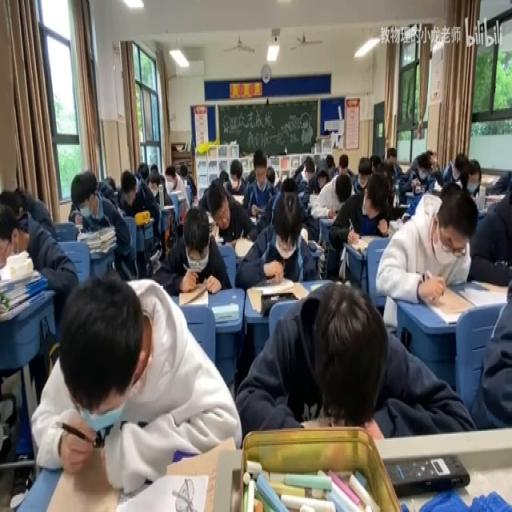calculator: (43, 445, 123, 509), (115, 471, 209, 512), (247, 280, 308, 313), (76, 224, 115, 254), (178, 286, 207, 306), (212, 302, 238, 322), (351, 235, 379, 253), (233, 236, 254, 258), (483, 193, 504, 209), (392, 202, 408, 219), (148, 248, 160, 270), (307, 239, 325, 253), (388, 218, 403, 232), (230, 193, 244, 205), (210, 222, 219, 240), (319, 214, 335, 224), (309, 282, 325, 290), (149, 180, 158, 194), (308, 194, 318, 206), (180, 204, 186, 224), (433, 179, 442, 192), (300, 225, 307, 240), (405, 189, 415, 199), (248, 216, 258, 225), (160, 204, 174, 210), (216, 235, 224, 243)
paper: (32, 269, 237, 492), (234, 280, 466, 440), (375, 182, 477, 327), (0, 192, 77, 330), (325, 170, 393, 278), (469, 269, 511, 428), (467, 170, 512, 284), (116, 166, 160, 266), (197, 178, 256, 249), (260, 172, 314, 242), (67, 175, 119, 225), (398, 149, 440, 202), (438, 152, 477, 196), (302, 155, 332, 196), (0, 188, 27, 222), (222, 156, 244, 194), (382, 145, 404, 181), (177, 162, 195, 202), (348, 155, 367, 192), (334, 173, 350, 202), (290, 158, 306, 182), (136, 162, 150, 184), (280, 176, 297, 194), (252, 151, 266, 172), (368, 152, 381, 172), (16, 214, 29, 234), (470, 172, 481, 191), (103, 175, 115, 192), (265, 166, 274, 185), (427, 151, 437, 168), (338, 154, 347, 172), (165, 175, 174, 189), (326, 156, 332, 170), (150, 168, 156, 180), (222, 179, 230, 188)
person: (383, 452, 469, 494), (253, 276, 279, 286), (252, 202, 266, 212)
